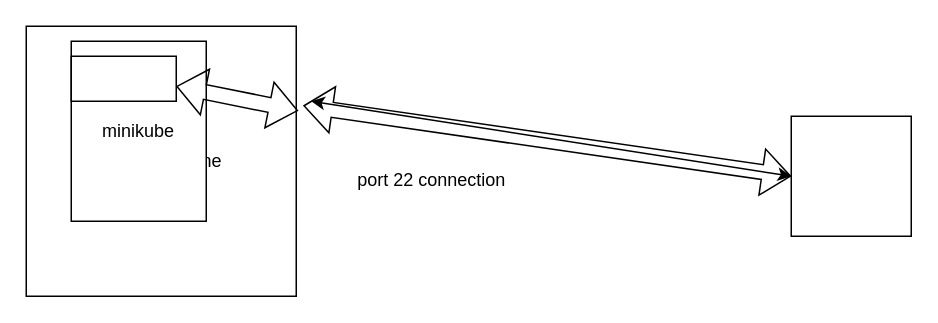
This 938x323 diagram has some shape labels left out. The shapes that lost their labels are listed below. From the top down, each one's centre as x and y in pixels, then its label:
At point 123,78: "dashboard".
At point 850,175: "my laptop".
